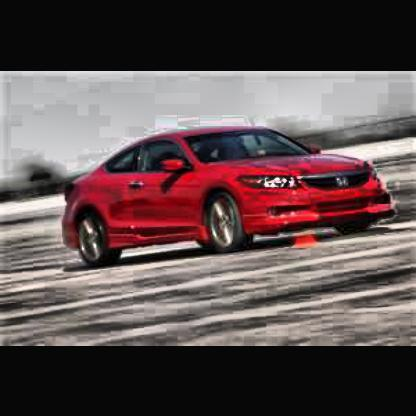Honda Accord Coupe 2012: (63, 128, 397, 266)
